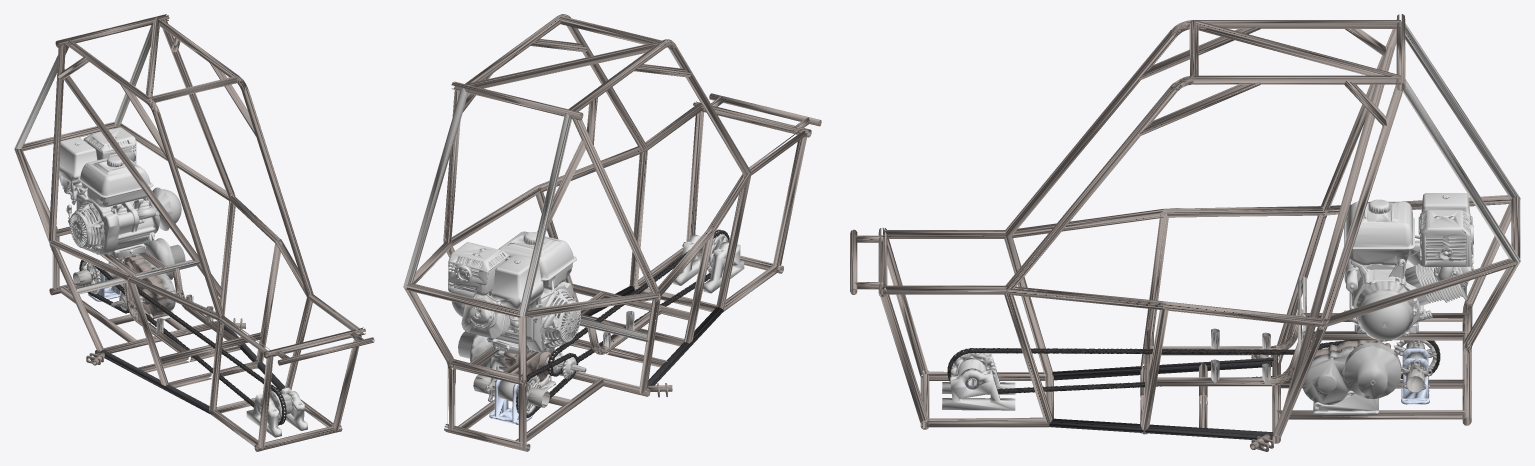
Rendered from sae-baja.glb.
The picture shows the model from 3 angles, left to right: view 1: azimuth 30°, elevation 25°; view 2: azimuth 150°, elevation 25°; view 3: azimuth 270°, elevation 25°; orthographic projection. The views are drawn at different scales.
Parts seen in each view (by area): view 1: sprocket_18 teeth-2, Honda GX390 horizontal shaft(2)-1/Honda GX390 horizontal sha; view 2: sprocket_18 teeth-2, Honda GX390 horizontal shaft(2)-1/Honda GX390 horizontal sha; view 3: sprocket_18 teeth-2, Honda GX390 horizontal shaft(2)-1/Honda GX390 horizontal sha.
Boxes of the visible parts, bbox=[...] form: sprocket_18 teeth-2: bbox=[14, 14, 374, 451]; Honda GX390 horizontal shaft(2)-1/Honda GX390 horizontal sha: bbox=[87, 198, 154, 258]; sprocket_18 teeth-2: bbox=[403, 14, 821, 451]; Honda GX390 horizontal shaft(2)-1/Honda GX390 horizontal sha: bbox=[461, 291, 556, 354]; sprocket_18 teeth-2: bbox=[850, 14, 1520, 451]; Honda GX390 horizontal shaft(2)-1/Honda GX390 horizontal sha: bbox=[1344, 244, 1466, 336].
Size of the model in its own units: 0.9519 by 1.36 by 2.33.
Materials: 2 (2 with a texture image).
